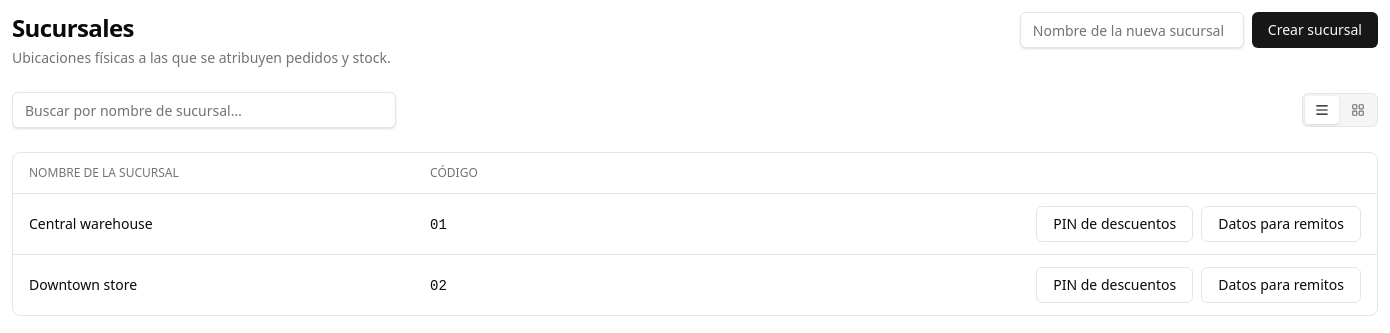
Test: BranchesScreen › shows a helpful empty state when the filter matches nothing
Expected: the text "Central warehouse" is shown, x1=13 y1=194 x2=414 y2=254
Type "zzzz" into the search field named "buscar sucursales" at (204, 110), box x1=12 y1=92 x2=396 y2=128
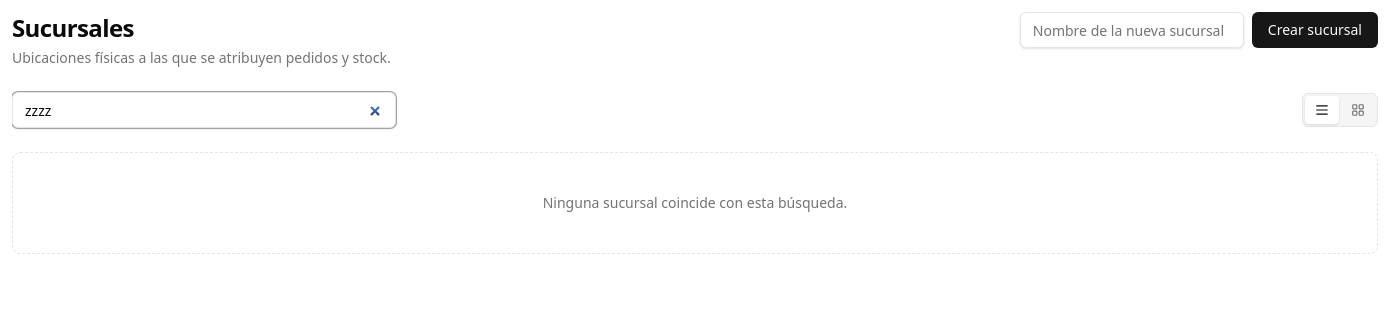
Now the text "Ninguna sucursal coincide con esta búsqueda." is shown, box x1=12 y1=152 x2=1378 y2=254
Now the table is gone
